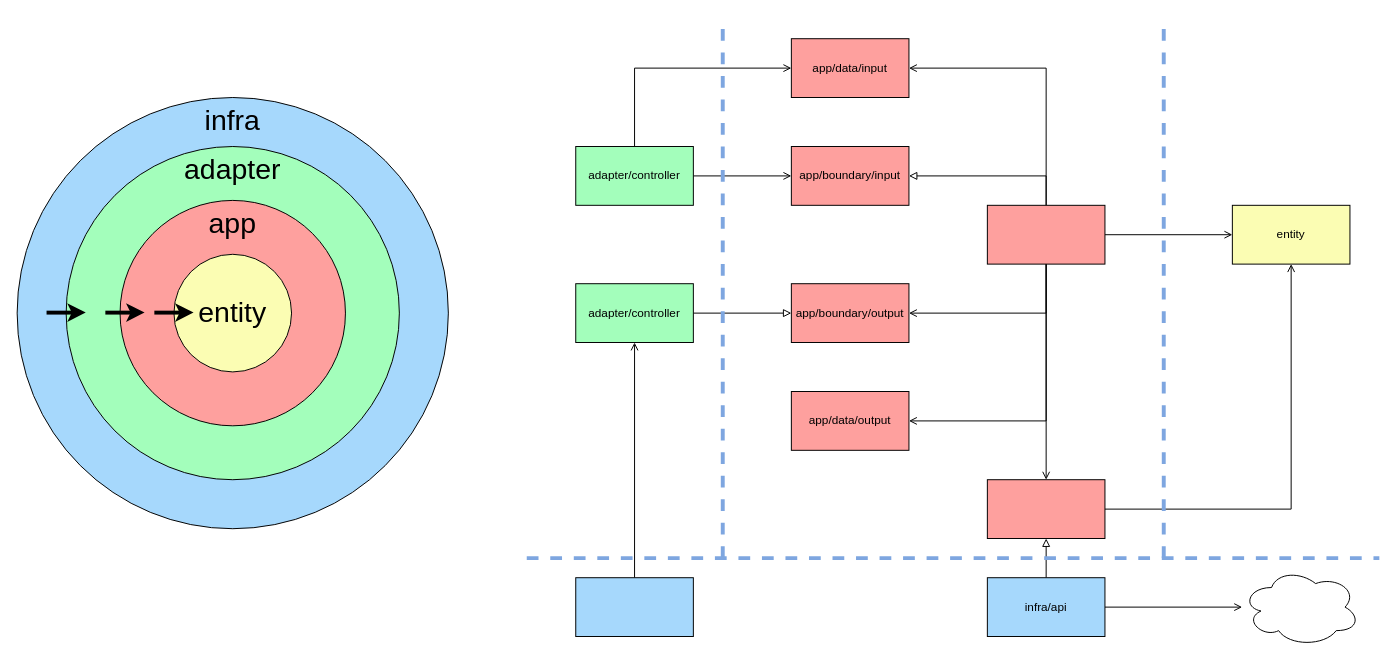
Image size: 1399x663. Some labels were removed from this diagram. The centre of each missing label's shape, as x and y in pixels:
app/if/api: (x=1045, y=509)
app/interactor: (x=1045, y=234)
Cloud audio to text: (x=1300, y=606)
infra/io: (x=634, y=607)
